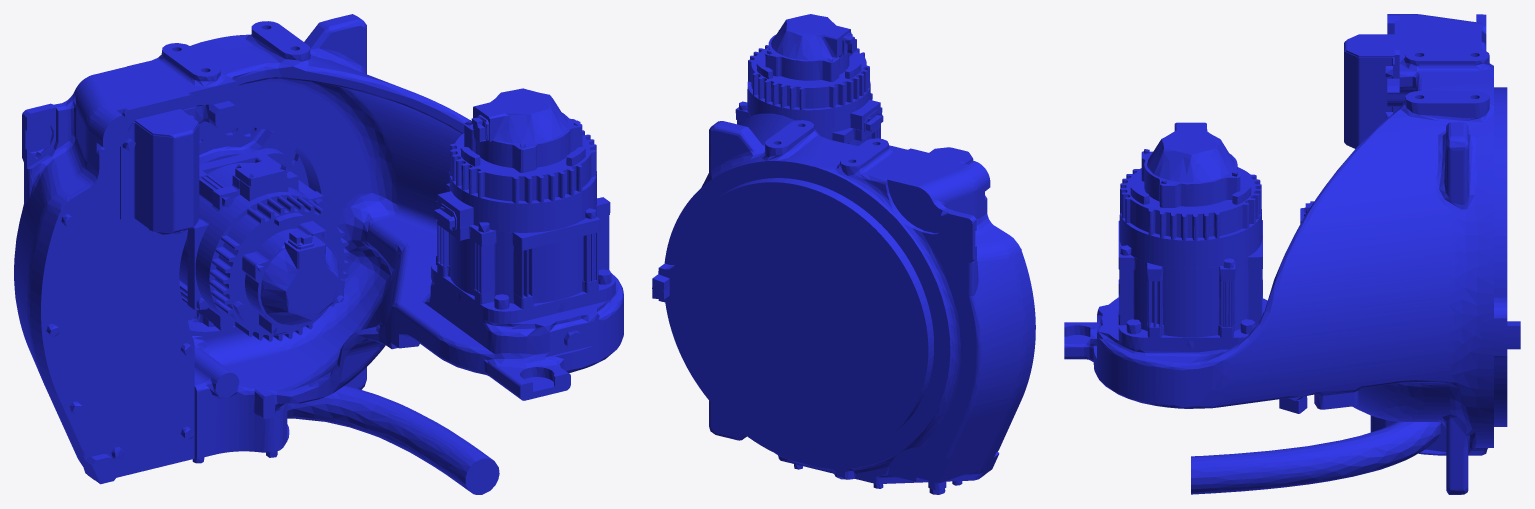
3 views of the same model, side by side, from view 1: azimuth 30°, elevation 25°; view 2: azimuth 150°, elevation 25°; view 3: azimuth 270°, elevation 25° (orthographic). The views are drawn at different scales.
Parts seen in each view (by area): view 1: /Gp12_Link_1_S/Gp12_Link_1_S-mesh/0; view 2: /Gp12_Link_1_S/Gp12_Link_1_S-mesh/0; view 3: /Gp12_Link_1_S/Gp12_Link_1_S-mesh/0.
Boxes of the visible parts, x1,y1,x2,y2 form: /Gp12_Link_1_S/Gp12_Link_1_S-mesh/0: (14,14,623,494); /Gp12_Link_1_S/Gp12_Link_1_S-mesh/0: (652,14,1035,494); /Gp12_Link_1_S/Gp12_Link_1_S-mesh/0: (1064,14,1520,494).
Bounding box in the file's own units: 0.466 × 0.3717 × 0.411.
